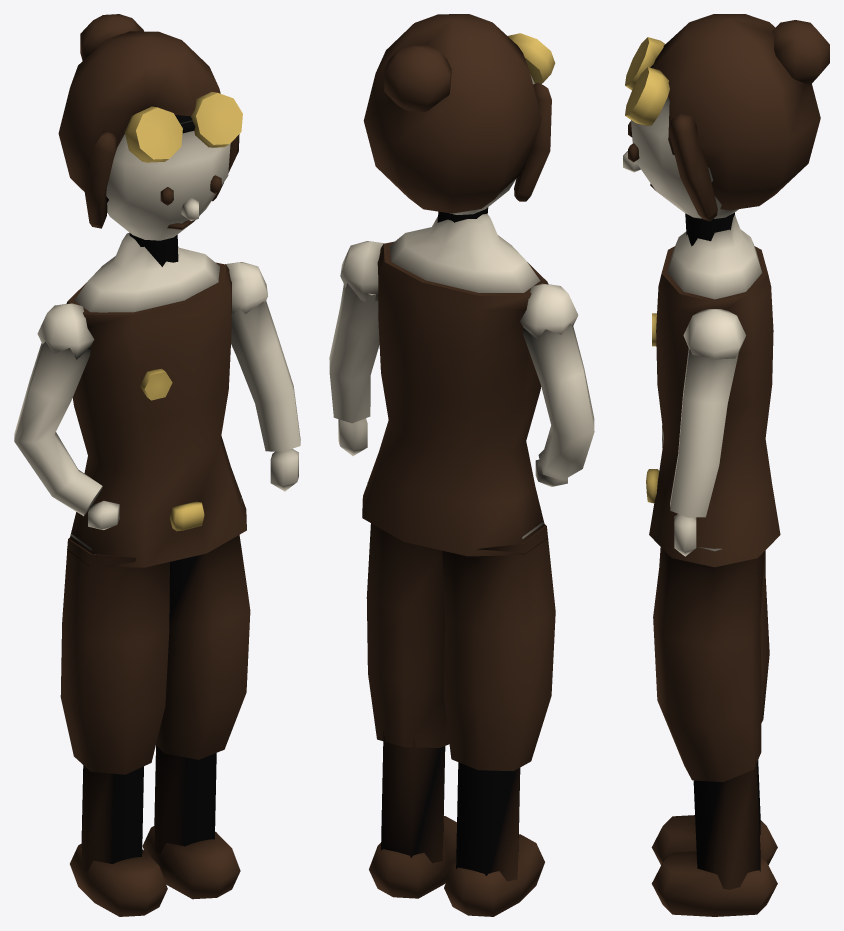
The model's file is figure_mira.glb.
3 renders of one model, left to right at view 1: azimuth 30°, elevation 25°; view 2: azimuth 150°, elevation 25°; view 3: azimuth 270°, elevation 25°, orthographic. The views are drawn at different scales.
Visible parts, largest first — view 1: Mira_Body; view 2: Mira_Body; view 3: Mira_Body.
Part boxes in pixels (x1,y1,x2,y2): Mira_Body: (14, 14, 300, 916); Mira_Body: (329, 14, 594, 916); Mira_Body: (623, 14, 829, 916).
Size of the model in its own units: 0.0116 by 0.035 by 0.00754.
